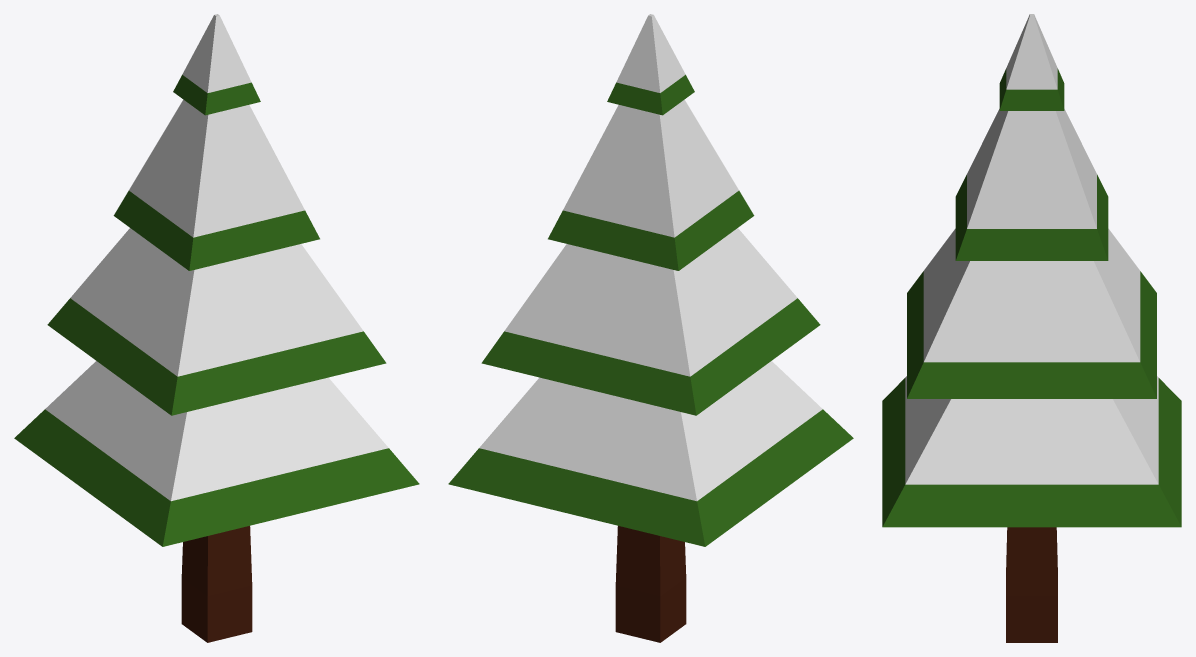
Rendered from tree3.fbx.
3 views of the same model, side by side, from view 1: azimuth 30°, elevation 25°; view 2: azimuth 150°, elevation 25°; view 3: azimuth 270°, elevation 25° (orthographic).
Parts seen in each view (by area): view 1: Cube; view 2: Cube; view 3: Cube.
Part boxes in pixels (x1,y1,x2,y2): Cube: [14, 14, 419, 642]; Cube: [448, 14, 853, 642]; Cube: [882, 14, 1181, 642].
Size of the model in its own units: 405 by 923 by 405.
